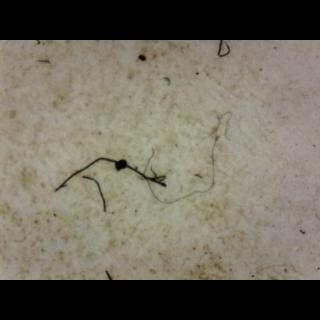Microplastic: (44, 141, 174, 215)
